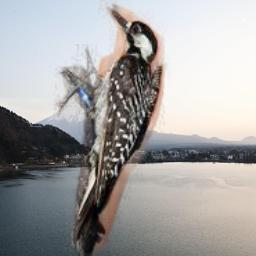Woodpecker: (47, 0, 171, 256)
